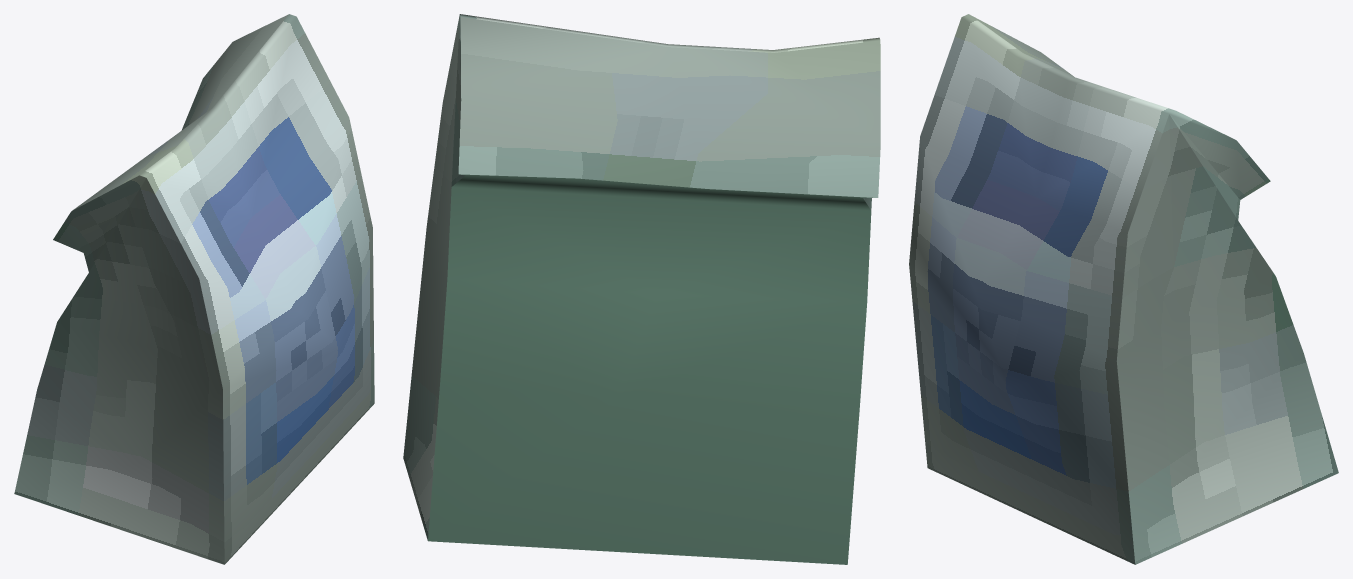
File: fg_medicine.dae
The picture shows the model from 3 angles, left to right: view 1: azimuth 30°, elevation 25°; view 2: azimuth 150°, elevation 25°; view 3: azimuth 270°, elevation 25°; orthographic projection. The views are drawn at different scales.
Parts seen in each view (by area): view 1: fg_medicine; view 2: fg_medicine; view 3: fg_medicine.
Part boxes in pixels (<box>): fg_medicine: <box>14,14,374,564</box>; fg_medicine: <box>403,14,880,564</box>; fg_medicine: <box>909,14,1338,564</box>.
Size of the model in its own units: 12.37 by 13.76 by 11.87.
1 material, 1 textured.
